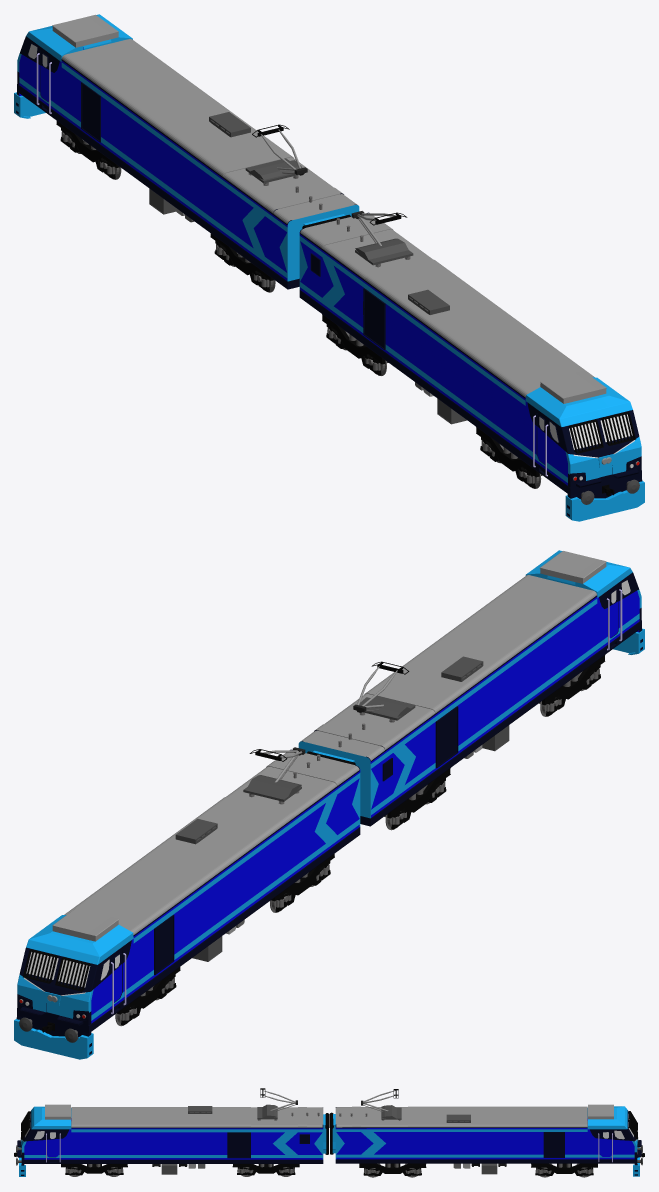
File: wag-12b.glb
The picture shows the model from 3 angles, top to bottom: view 1: azimuth 30°, elevation 25°; view 2: azimuth 150°, elevation 25°; view 3: azimuth 270°, elevation 25°; orthographic projection. The views are drawn at different scales.
Visible parts, largest first — view 1: Body_40, Body.001_39, Cube.011_55, Cube.002_46, Cube.001_76, Cube_70, Cube.025_38, Cube.024_37, Cube.023_36; view 2: Body.001_39, Body_40, Cube.014_27, Cube.023_36, Cube_70, Cube.001_76, Cube.025_38, Cube.024_37, Cube.002_46; view 3: Body.001_39, Body_40, Cube.024_37, Cube.025_38, Cube.001_76, Cube_70, Cube.002_46, Cube.023_36, Cube.015_28, Cube.020_33, Cube.010_54, Cube.005_49 (+3 smaller).
Part boxes in pixels (left/top/right/bottom): Body_40: left=299, top=212, right=644, bottom=521; Body.001_39: left=14, top=14, right=359, bottom=289; Cube.011_55: left=568, top=411, right=635, bottom=453; Cube.002_46: left=355, top=238, right=413, bottom=265; Cube.001_76: left=322, top=314, right=385, bottom=375; Cube_70: left=476, top=427, right=539, bottom=488; Cube.025_38: left=56, top=121, right=119, bottom=179; Cube.024_37: left=210, top=233, right=273, bottom=291; Cube.023_36: left=245, top=158, right=302, bottom=183; Body.001_39: left=14, top=749, right=360, bottom=1059; Body_40: left=298, top=550, right=644, bottom=826; Cube.014_27: left=23, top=949, right=90, bottom=991; Cube.023_36: left=243, top=775, right=301, bottom=801; Cube_70: left=541, top=655, right=605, bottom=716; Cube.001_76: left=387, top=768, right=450, bottom=829; Cube.025_38: left=117, top=967, right=180, bottom=1025; Cube.024_37: left=271, top=854, right=334, bottom=912; Cube.002_46: left=359, top=696, right=415, bottom=720; Body.001_39: left=332, top=1104, right=641, bottom=1176; Body_40: left=17, top=1104, right=326, bottom=1176; Cube.024_37: left=359, top=1163, right=426, bottom=1175; Cube.025_38: left=531, top=1163, right=597, bottom=1175; Cube.001_76: left=232, top=1164, right=299, bottom=1175; Cube_70: left=61, top=1164, right=127, bottom=1175; Cube.002_46: left=257, top=1104, right=277, bottom=1119; Cube.023_36: left=381, top=1105, right=401, bottom=1119; Cube.015_28: left=446, top=1114, right=470, bottom=1122; Cube.020_33: left=481, top=1163, right=497, bottom=1174; Cube.010_54: left=188, top=1106, right=212, bottom=1113; Cube.005_49: left=161, top=1164, right=177, bottom=1174.
Bounding box in the file's own units: 2.54 × 4.43 × 32.12.
